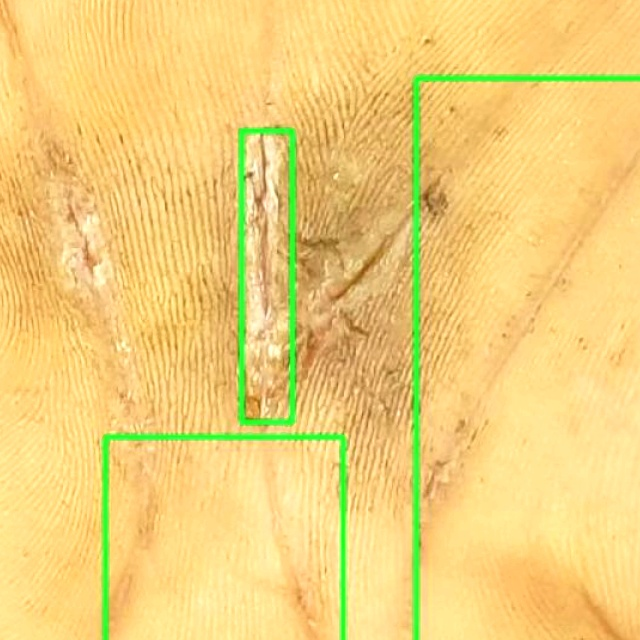Contact Dermatitis: (415, 78, 639, 639), (105, 438, 343, 639), (241, 130, 292, 422)
